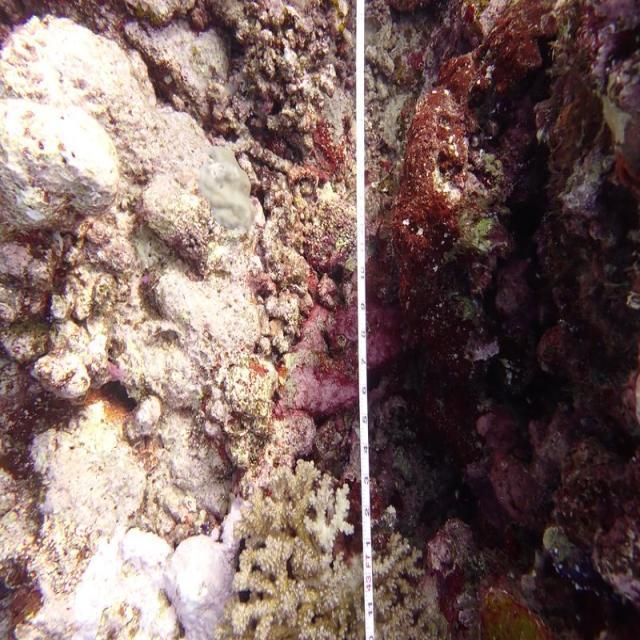Bleached Coral: (102, 515, 258, 640), (184, 136, 272, 250), (300, 482, 359, 576)
